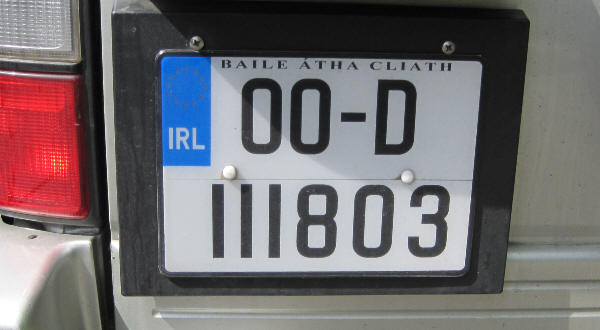license_plate: (155, 50, 485, 276)
